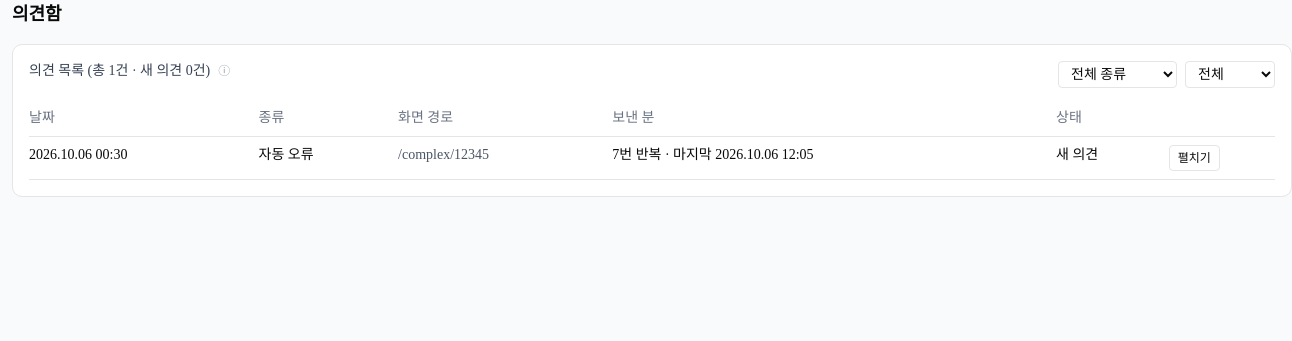
Test: /admin/opinions 자동 오류·정리 감시 › 오류 행은 'N번 반복 · 마지막 시각'을 보이고, 펼쳐도 답장·공개 칸이 없다(상태·지우기는 있다)
Expected: the text "7번 반복 · 마지막 2026.10.06 12:05" is shown, [612,136,1056,180]
Expected: the cell "자동 오류" is shown, [259,136,398,180]
Click the button "펼치기" at [1194, 158], box [1169,145,1220,171]
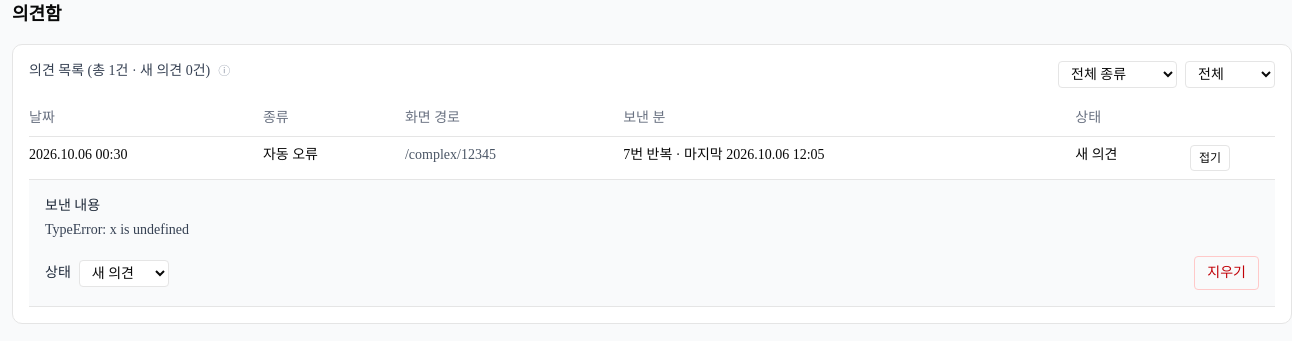
Now the text "TypeError: x is undefined" is shown, box [45,222,189,237]
Now the dropdown named "상태 바꾸기" is shown, box [79,260,169,286]
Now the button "지우기" is shown, box [1194,256,1259,290]
